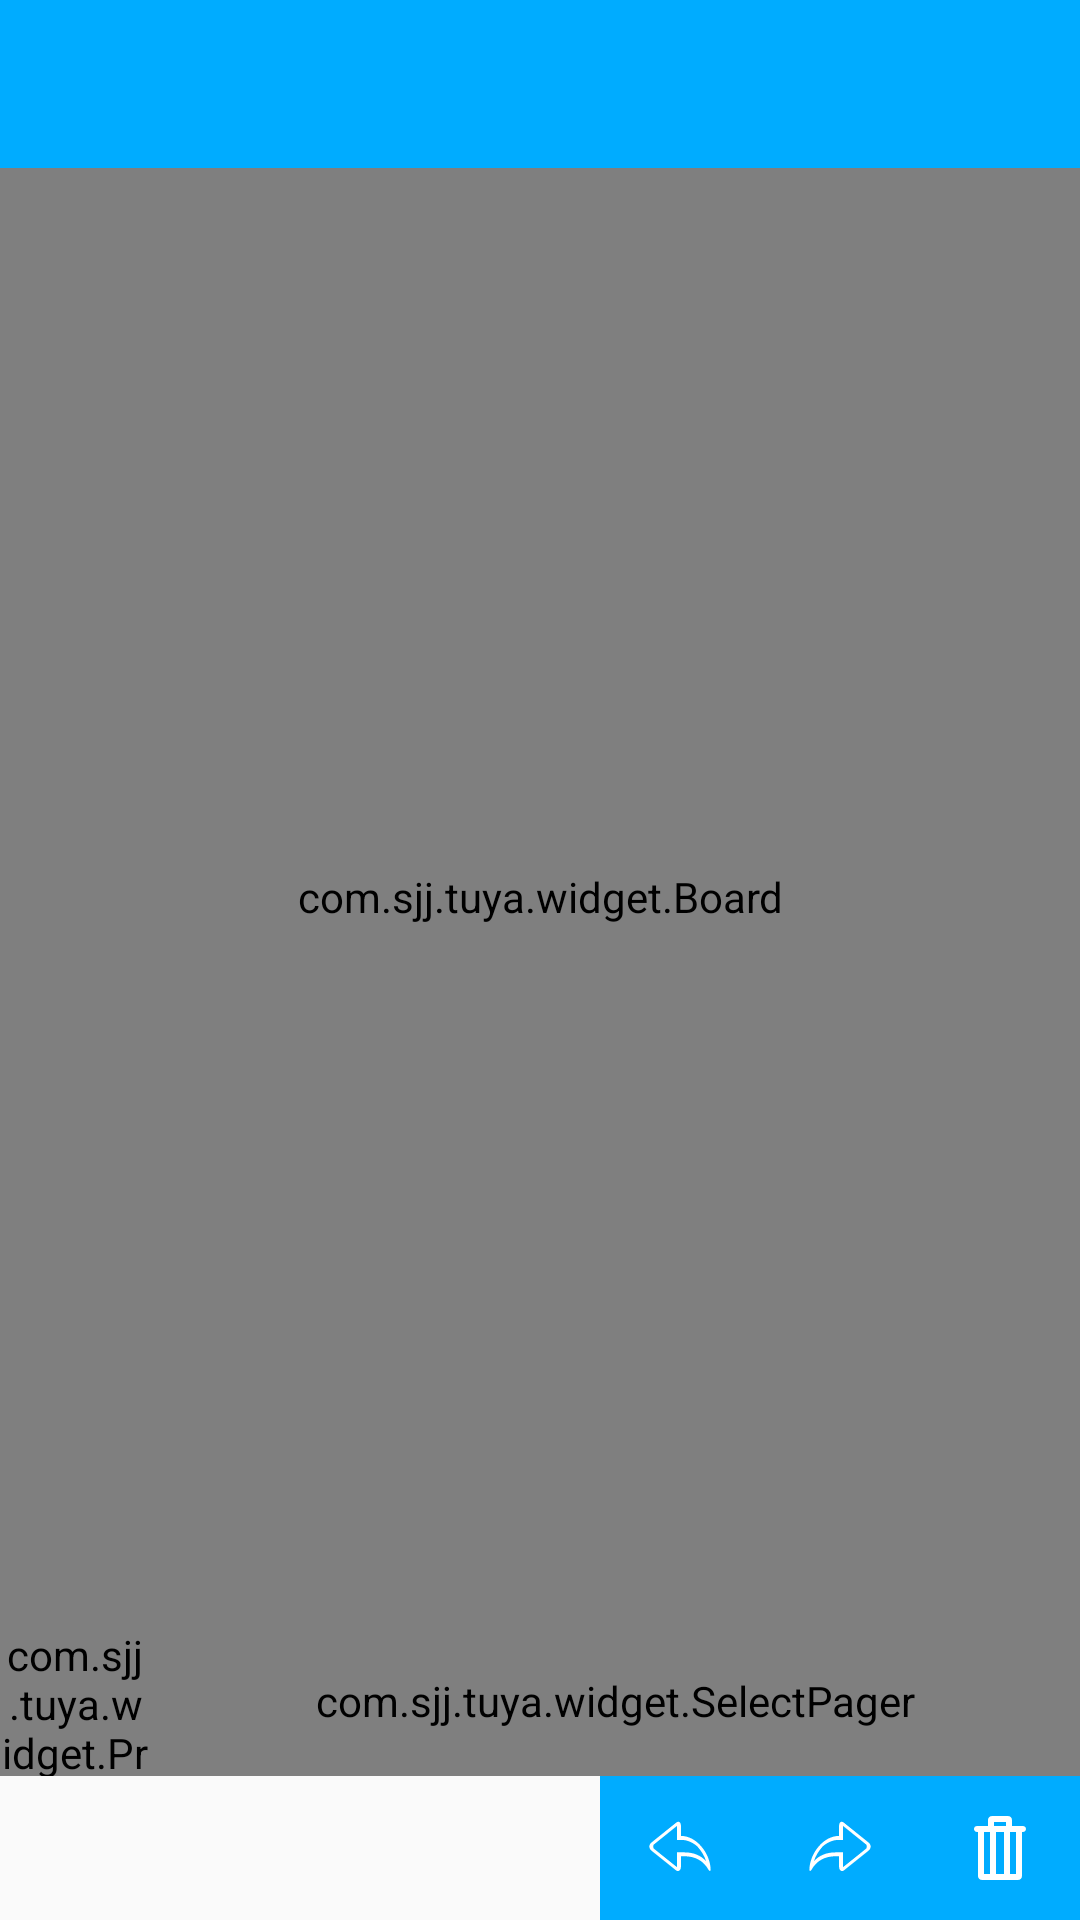

Icons on this 1080 x 1920 Android screen, each with its box as bbox=(x1, y1, x2, y2):
clear: bbox=(974, 1816, 1026, 1880)
hui: bbox=(649, 1821, 711, 1871)
redo: bbox=(809, 1821, 871, 1871)
